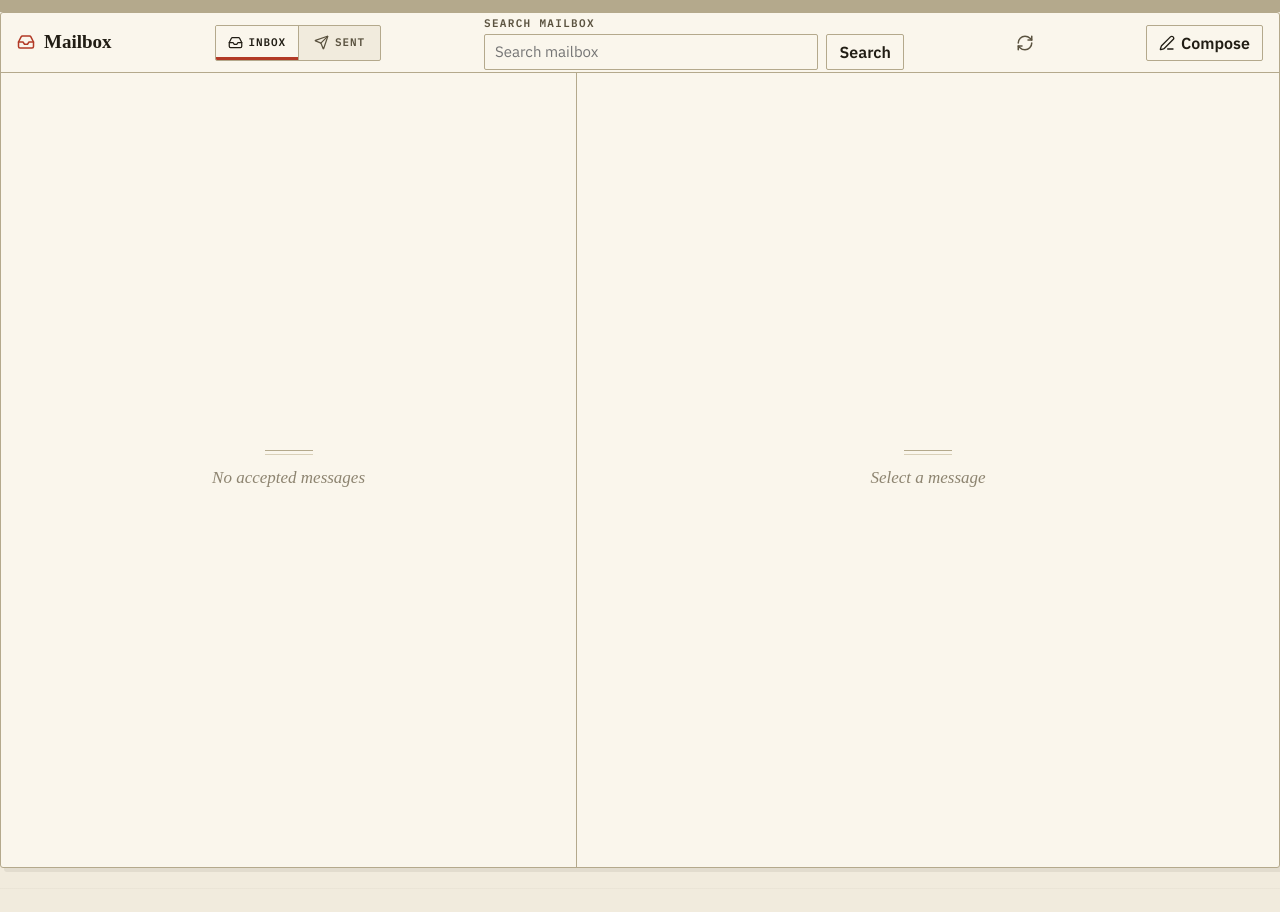
MailboxView › shows sent mail and opens outbound message details
Click the button "Sent" at [339, 42], box top-left (298, 26), bottom-right (380, 60)
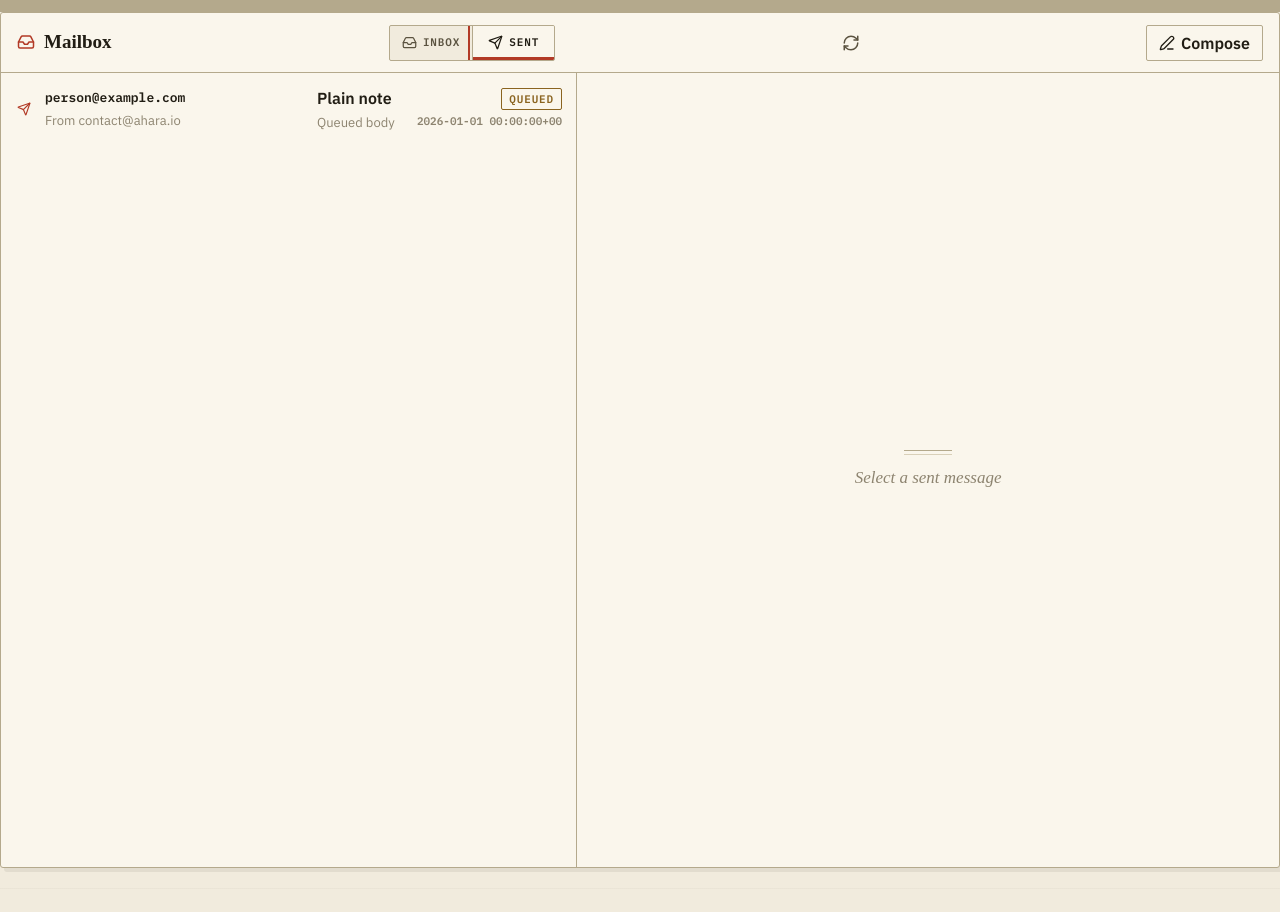
Result: the text "Plain note" is shown at top-left (317, 86), bottom-right (400, 110)
Result: the text "person@example.com" is shown at top-left (45, 89), bottom-right (185, 106)
Result: the text "queued" is shown at top-left (501, 88), bottom-right (562, 110)
Click the button "Queued body" at [115, 98], box top-left (1, 73), bottom-right (576, 145)
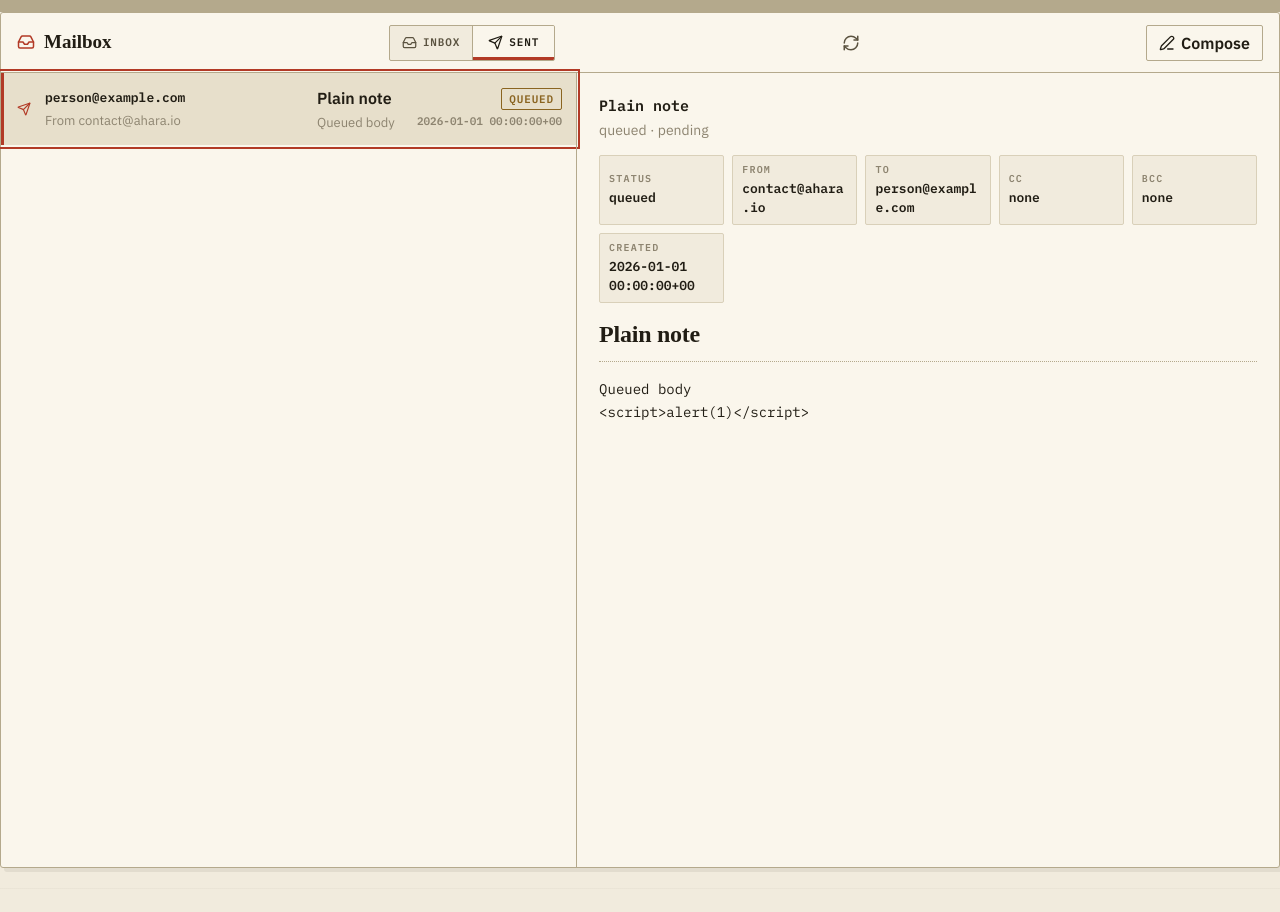
Result: the element named "Sent message detail" is shown at top-left (576, 73), bottom-right (1279, 867)
Result: the text "contact@ahara.io" is shown at top-left (742, 178), bottom-right (848, 218)
Result: the text "Queued body <script>alert(1)</script>" is shown at top-left (599, 380), bottom-right (809, 421)
